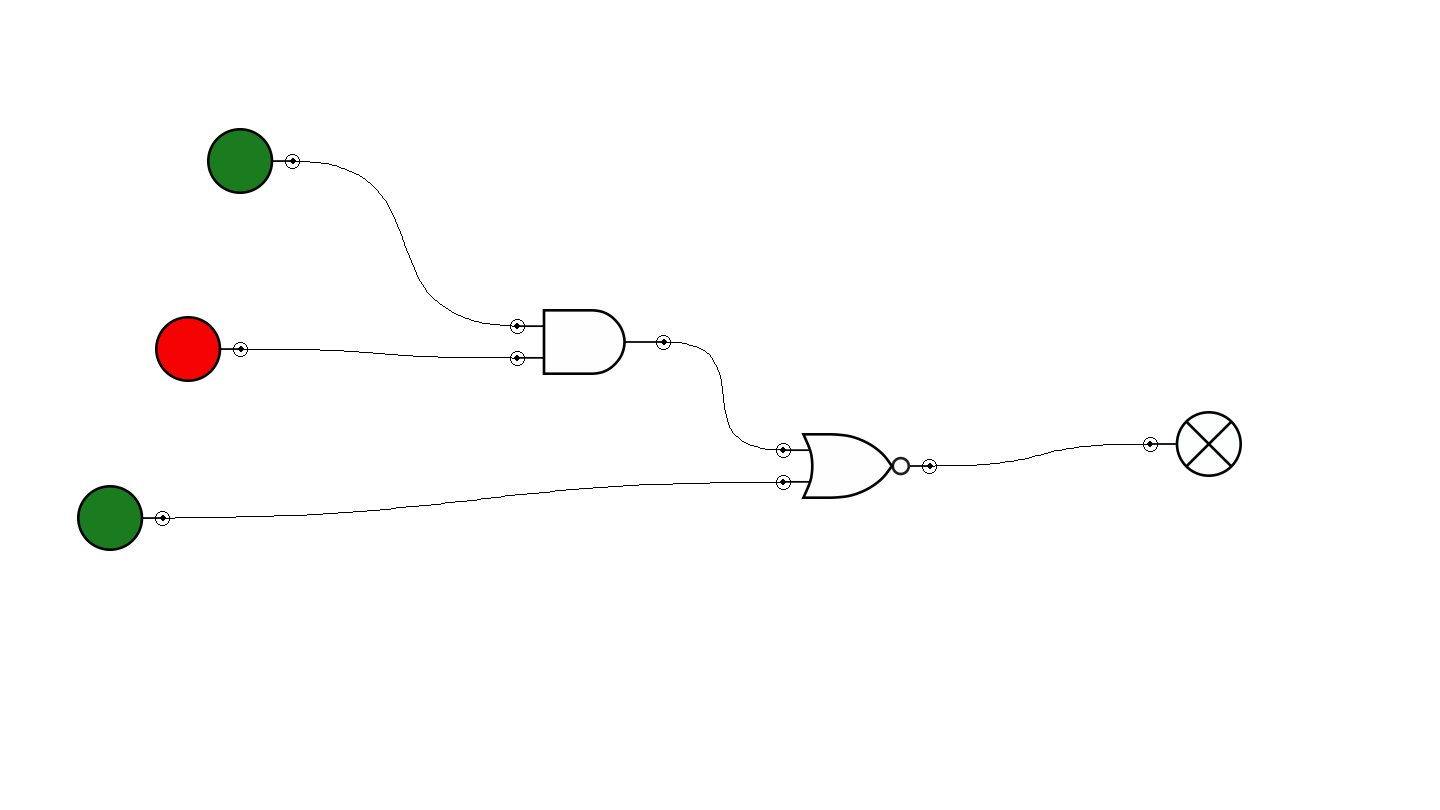and: (510, 309, 671, 375)
bulb: (1143, 411, 1242, 477)
nor: (776, 433, 937, 499)
switch_False: (155, 316, 248, 382)
switch_True: (77, 485, 170, 551), (207, 128, 300, 194)
